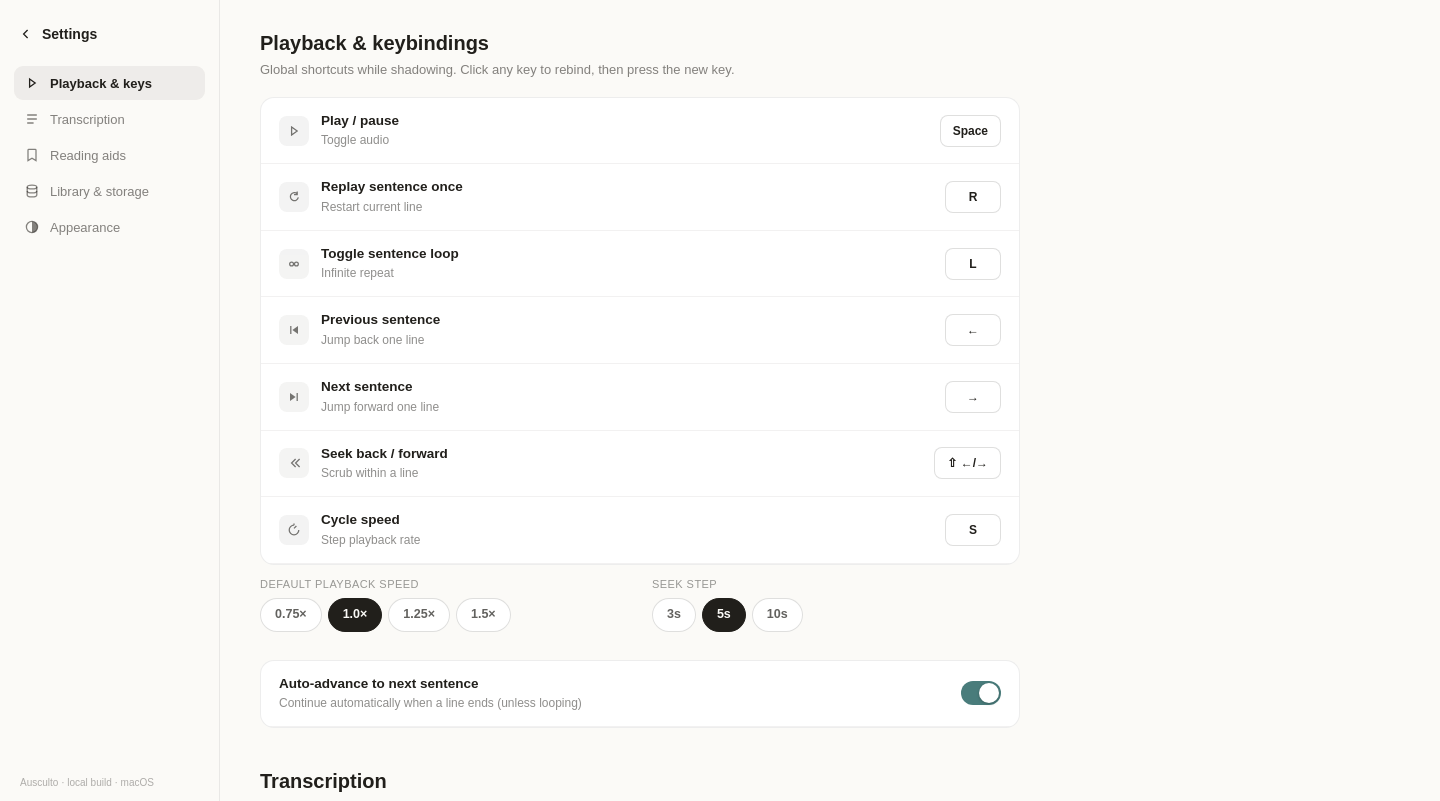
it: Settings › rebinds the seek modifier only from a modifier keypress, ignoring other keys
Check: the heading "Playback & keybindings" is shown, box [260, 32, 489, 54]
Click the button "⇧ ←/→" at (968, 463), box [934, 447, 1001, 479]
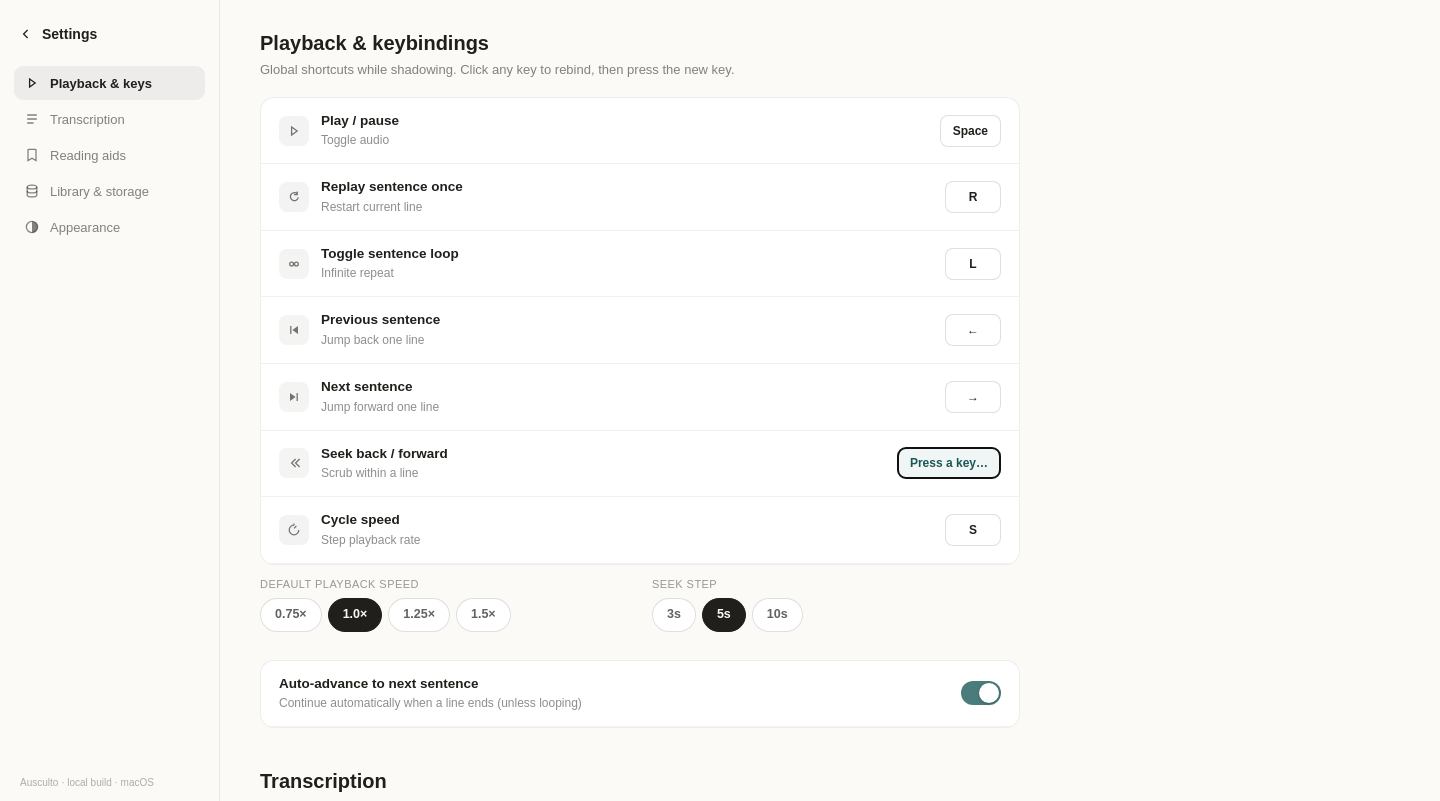
Press x
Check: the button named "⇧ ←/→" reads "Press a key…", box [897, 447, 1001, 479]
Press Alt
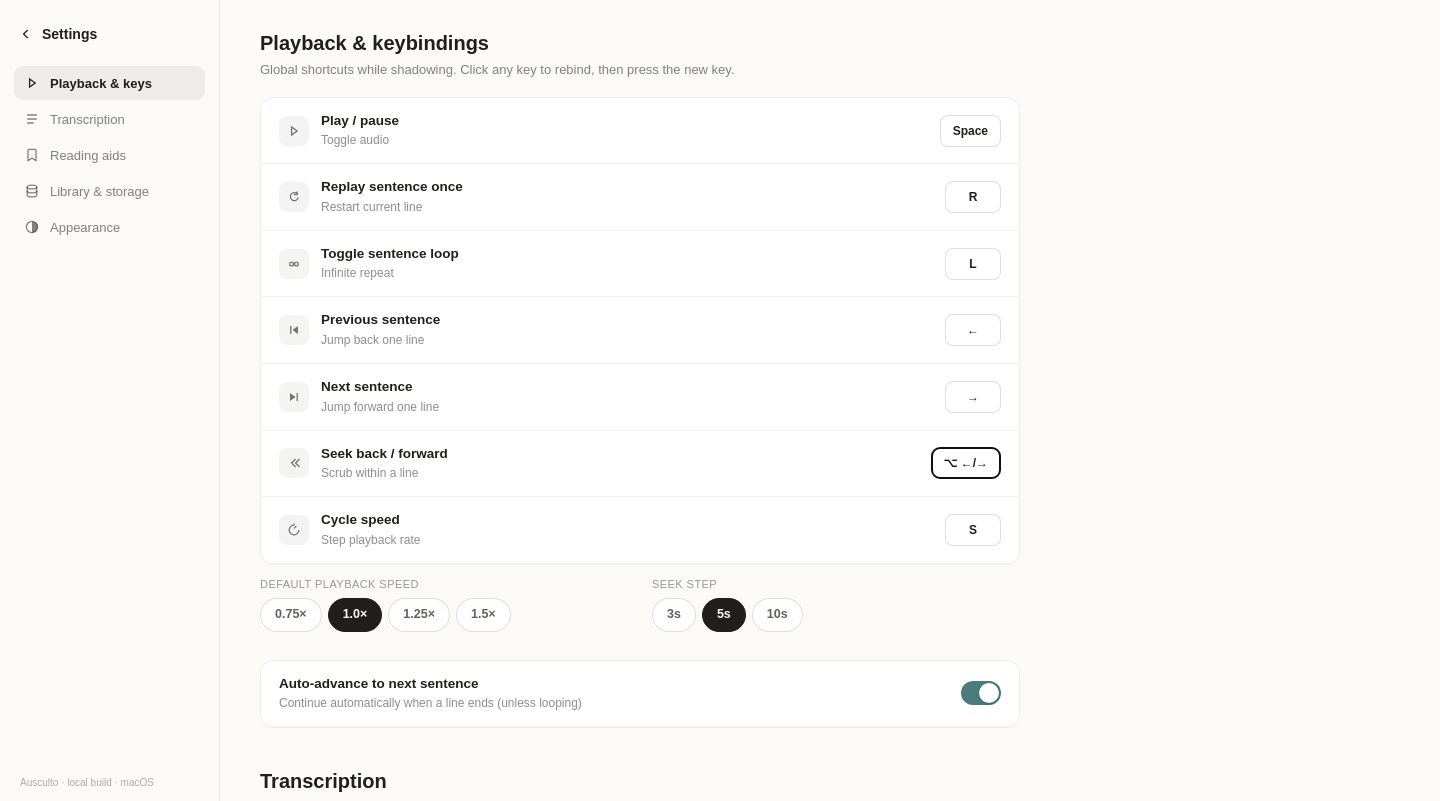
Check: the button named "⇧ ←/→" reads "⌥ ←/→", box [930, 447, 1001, 479]
